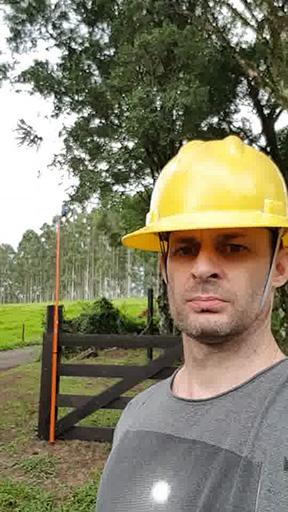Vara_Manobra: (49, 223, 62, 443)
